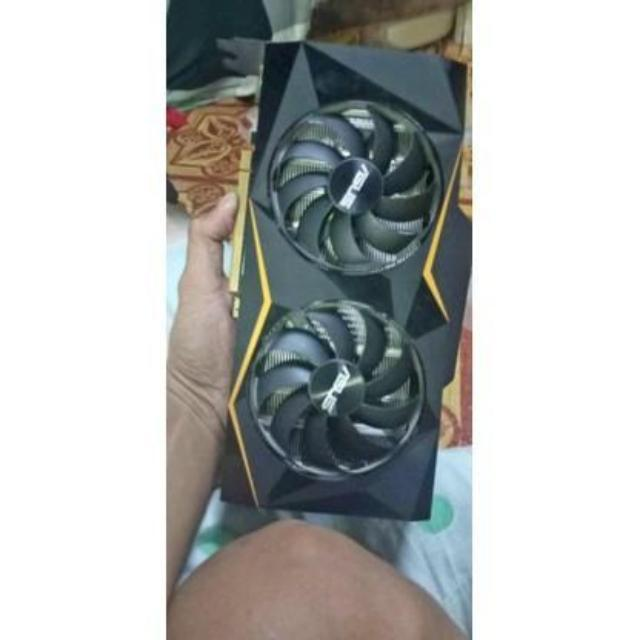GPU: (212, 29, 459, 526)
